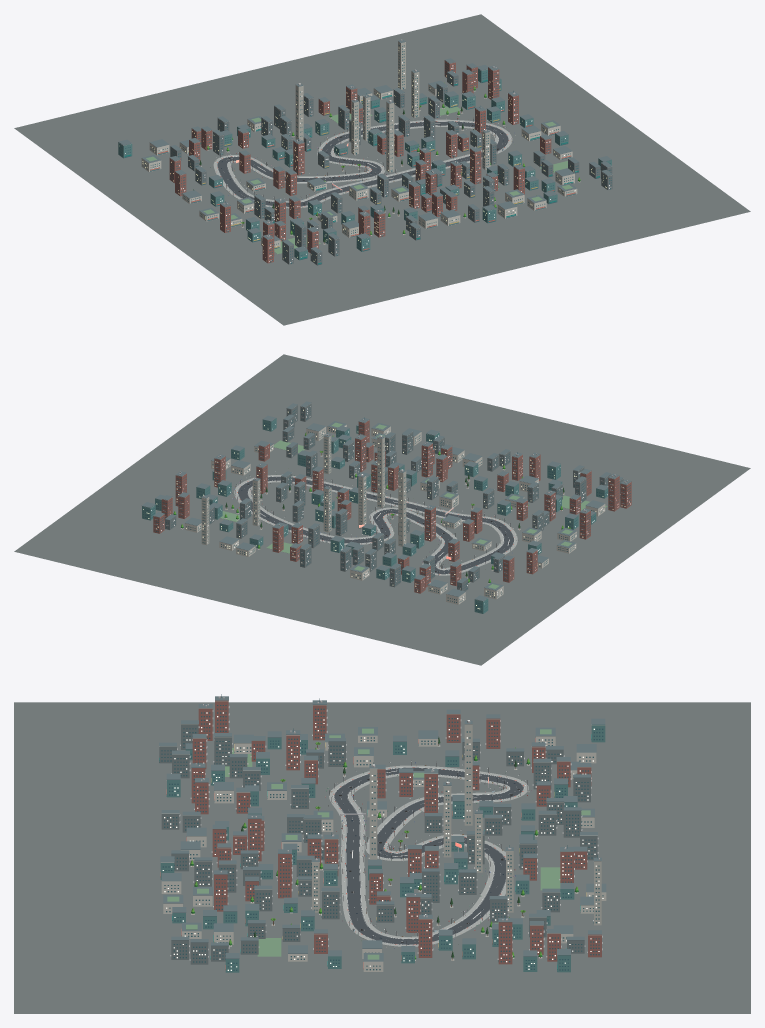
The model's file is CityTrack.glb.
The picture shows the model from 3 angles, top to bottom: view 1: azimuth 30°, elevation 25°; view 2: azimuth 150°, elevation 25°; view 3: azimuth 270°, elevation 25°; orthographic projection. The views are drawn at different scales.
Visible parts, largest first — view 1: CityGround, Road, PavementRight, PavementLeft, Cube.176; view 2: CityGround, Road, PavementRight, PavementLeft, Cube.376, Cube.176; view 3: CityGround, Road, PavementRight, PavementLeft, Cube.376, Cube.176, Cube.314, Cube.034, Cube.317, Cube.276, Cube.297.
Boxes of the visible parts, x1,y1,x2,y2 form: CityGround: (14, 14, 750, 325); Road: (217, 121, 508, 206); PavementRight: (213, 119, 512, 208); PavementLeft: (227, 125, 498, 202); Cube.176: (386, 102, 394, 172); CityGround: (14, 354, 750, 665); Road: (238, 476, 513, 574); PavementRight: (234, 475, 517, 575); PavementLeft: (248, 480, 503, 569); Cube.376: (398, 471, 406, 546); Cube.176: (377, 437, 384, 507); CityGround: (14, 702, 750, 1013); Road: (334, 767, 523, 944); PavementRight: (329, 765, 528, 946); PavementLeft: (348, 774, 509, 938); Cube.376: (464, 724, 472, 825); Cube.176: (369, 769, 377, 859); Cube.314: (443, 786, 451, 857); Cube.034: (498, 922, 512, 964); Cube.317: (278, 854, 291, 898); Cube.276: (418, 919, 432, 957); Cube.297: (424, 774, 437, 815).
Bounding box in the file's own units: 750 × 119 × 750.
